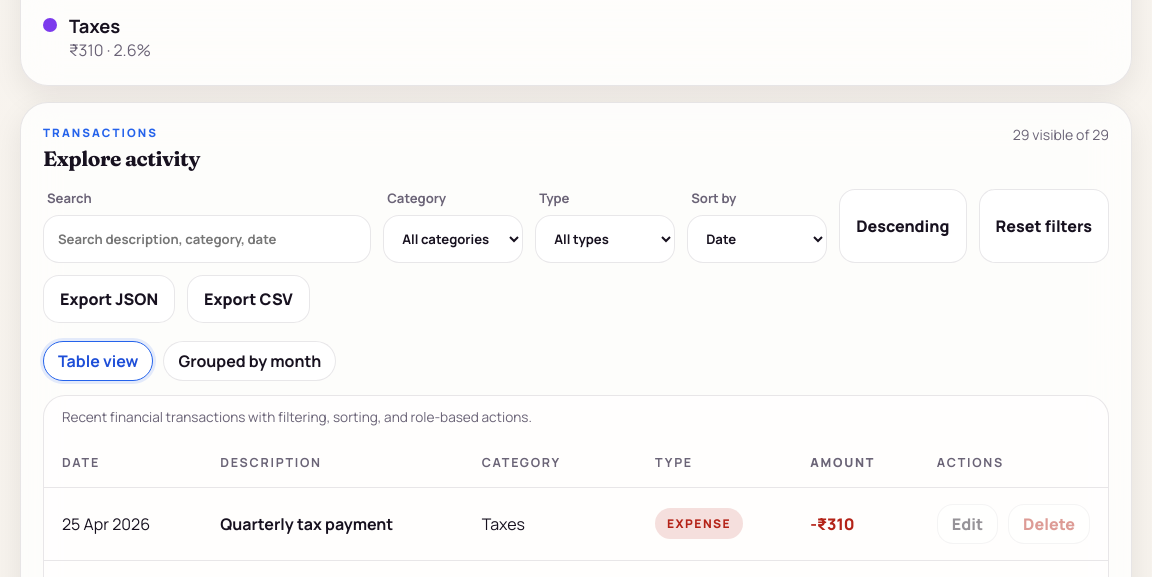
Scenario: App UI flows › switches between table and grouped transaction views
(page scrolled)
Expected: the text "Recent financial transactions with filtering, sorting, and role-based actions" is shown, [62,408,532,426]
Click the tab "Grouped by month" at (250, 360), box [164,340,336,380]
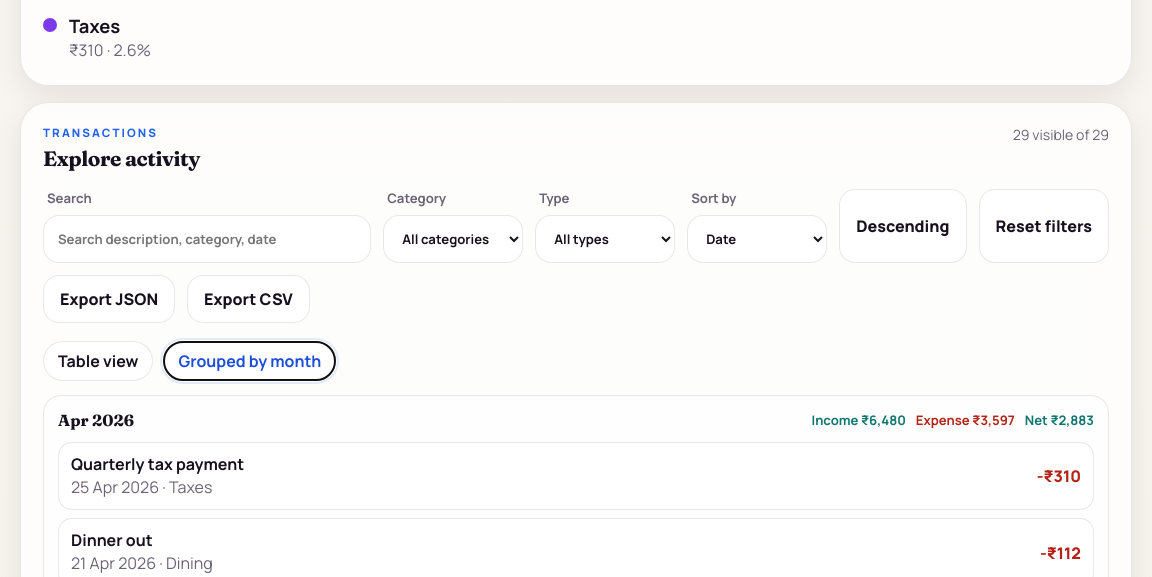
Now the text "Recent financial transactions with filtering, sorting, and role-based actions" is gone
Now the heading "Apr 2026" is shown, box [58,410,134,430]
